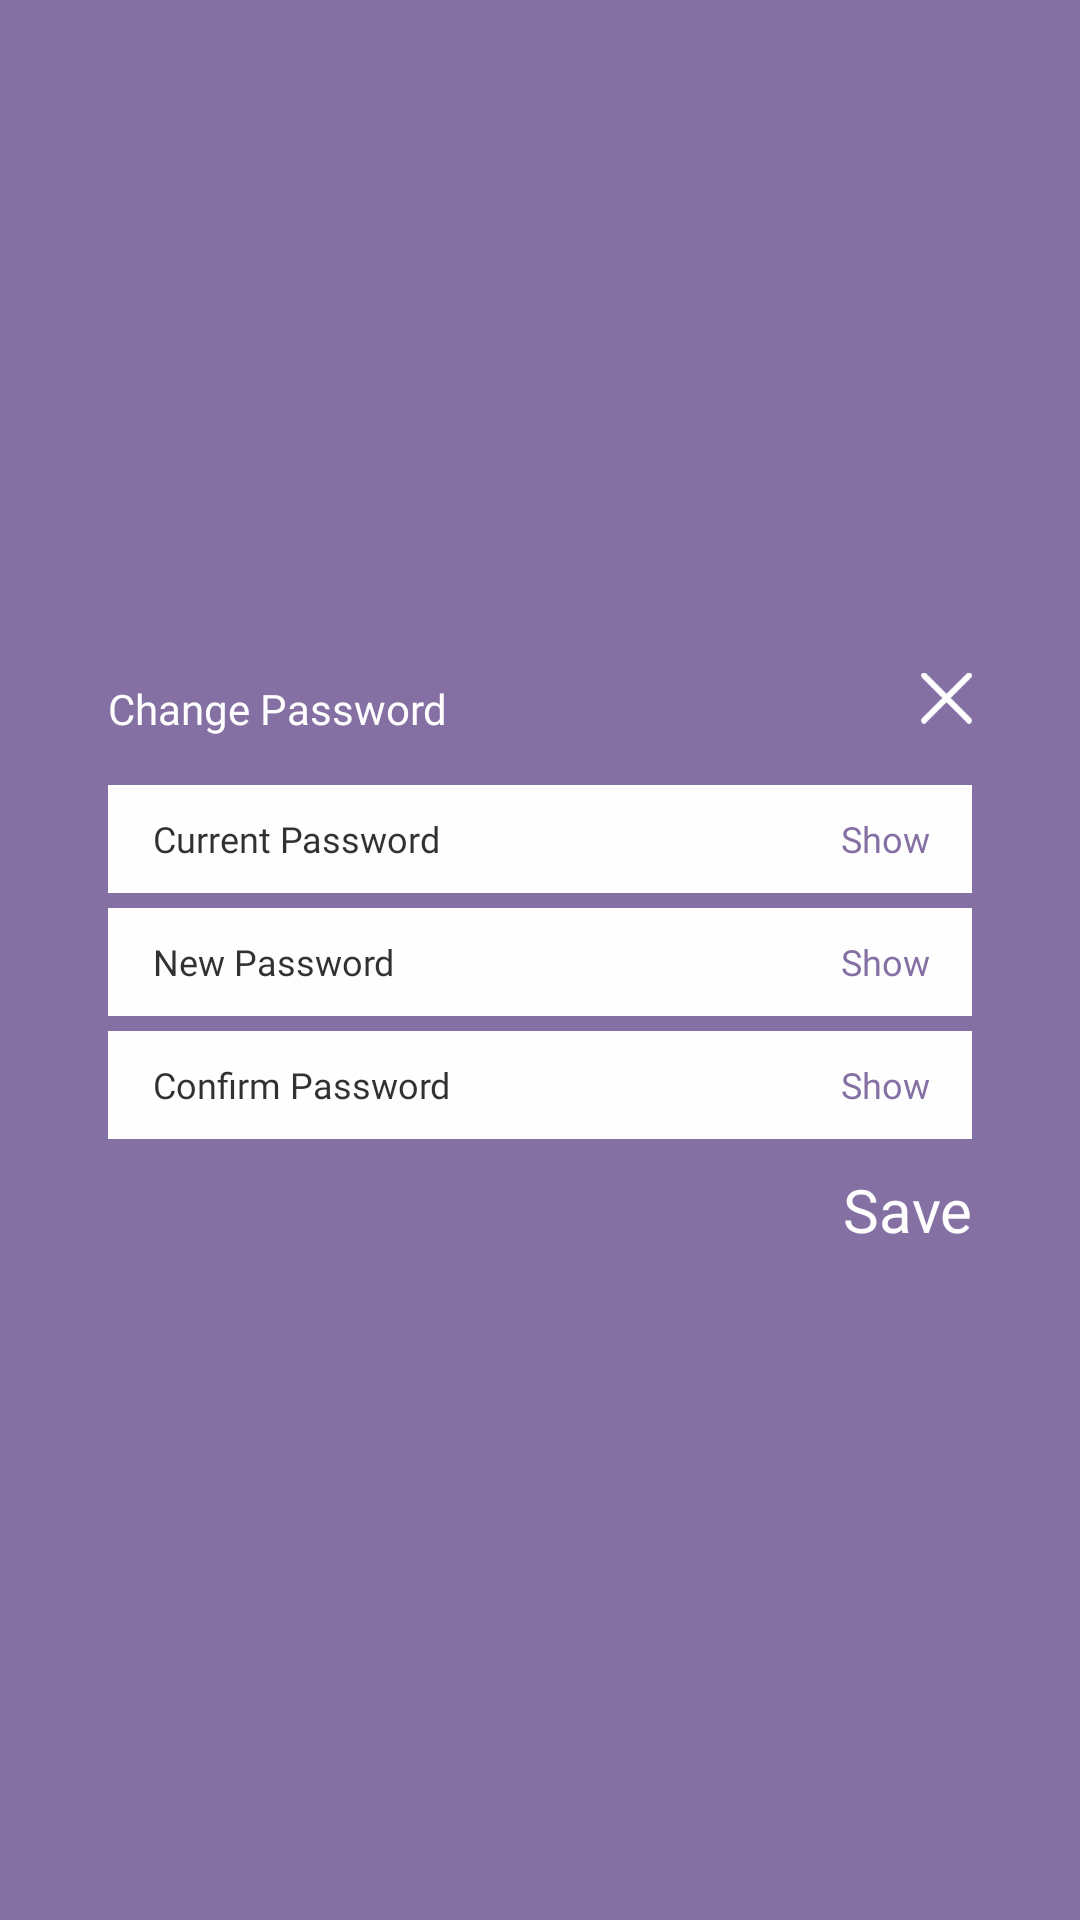

Icon bounding boxes for this 1080px x 1920px phone screenshot, format (x1, y1, x2, y2):
cross: (921, 673, 972, 724)
